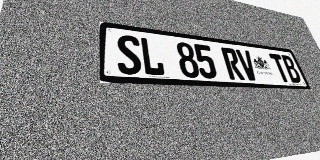5: (193, 44, 219, 79)
8: (175, 41, 201, 78)
B: (280, 55, 303, 83)
L: (139, 37, 166, 76)
R: (220, 47, 245, 80)
S: (116, 34, 143, 75)
T: (269, 53, 292, 82)
V: (235, 49, 260, 81)
